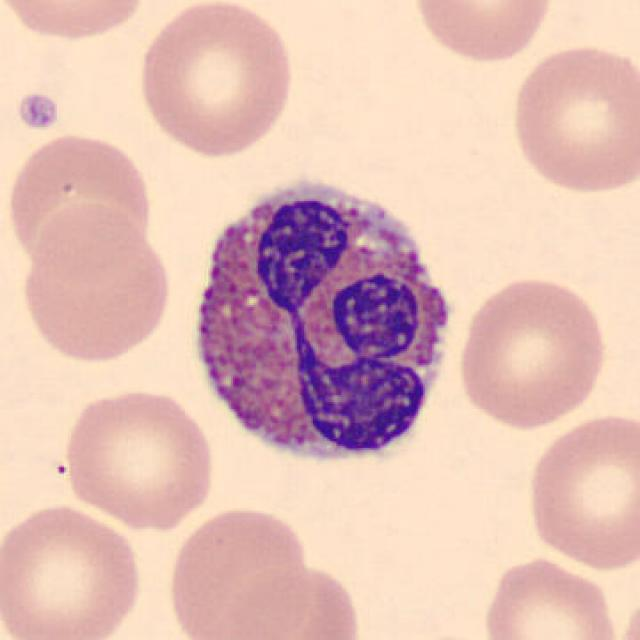Eosinophil: (175, 157, 470, 488)
Platelets: (12, 90, 64, 134)
RBC: (133, 0, 299, 162), (16, 203, 174, 368), (454, 271, 612, 432), (55, 384, 219, 531), (2, 129, 158, 275), (505, 41, 638, 198), (0, 499, 148, 640), (163, 502, 314, 640), (523, 409, 638, 573), (477, 552, 622, 640), (213, 559, 368, 640), (407, 0, 557, 65), (0, 0, 153, 44), (613, 587, 640, 640)
